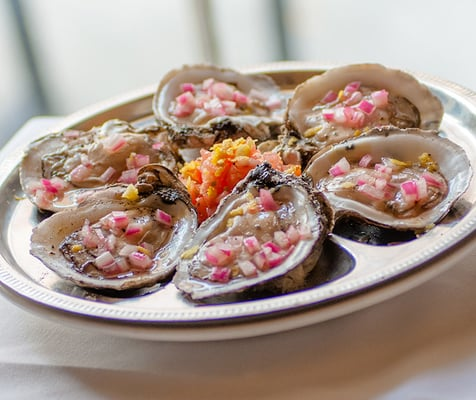curry: (0, 59, 475, 390)
salad: (285, 63, 445, 143)
